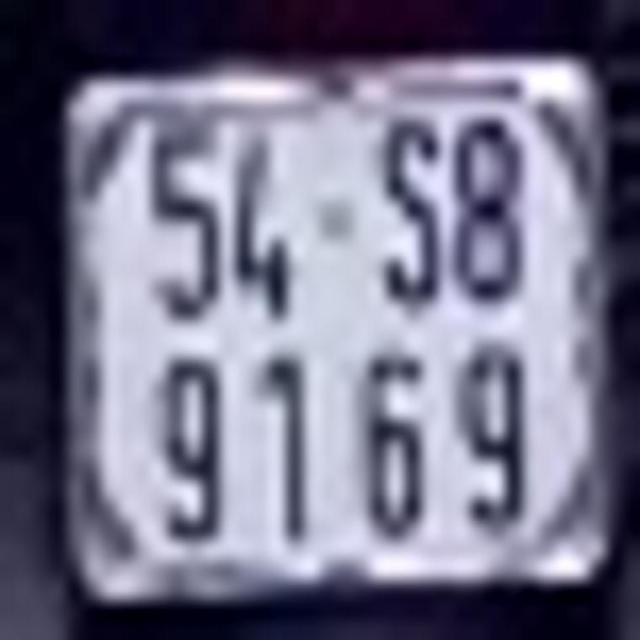1: (256, 354, 306, 541)
4: (233, 120, 298, 322)
5: (144, 118, 228, 324)
6: (360, 346, 427, 549)
8: (452, 110, 530, 308)
9: (445, 330, 535, 548), (149, 350, 227, 552)
S: (370, 111, 444, 312)
